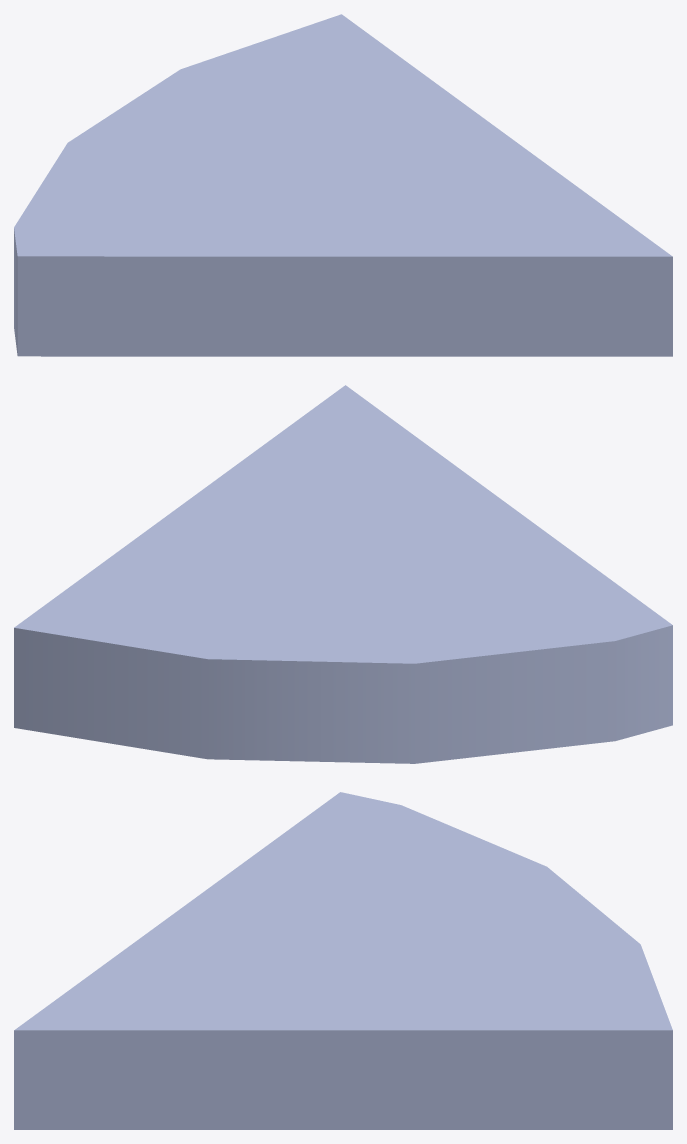
Rendered from separated.fbx.
3 views of the same model, one above another, from view 1: azimuth 30°, elevation 25°; view 2: azimuth 150°, elevation 25°; view 3: azimuth 270°, elevation 25° (orthographic).
Visible parts, largest first — view 1: pCylinder2; view 2: pCylinder2; view 3: pCylinder2.
Boxes of the visible parts, x1,y1,x2,y2 form: pCylinder2: (14,14,672,356); pCylinder2: (14,385,672,763); pCylinder2: (14,792,672,1129).
Size of the model in its own units: 2.57 by 0.5 by 3.
